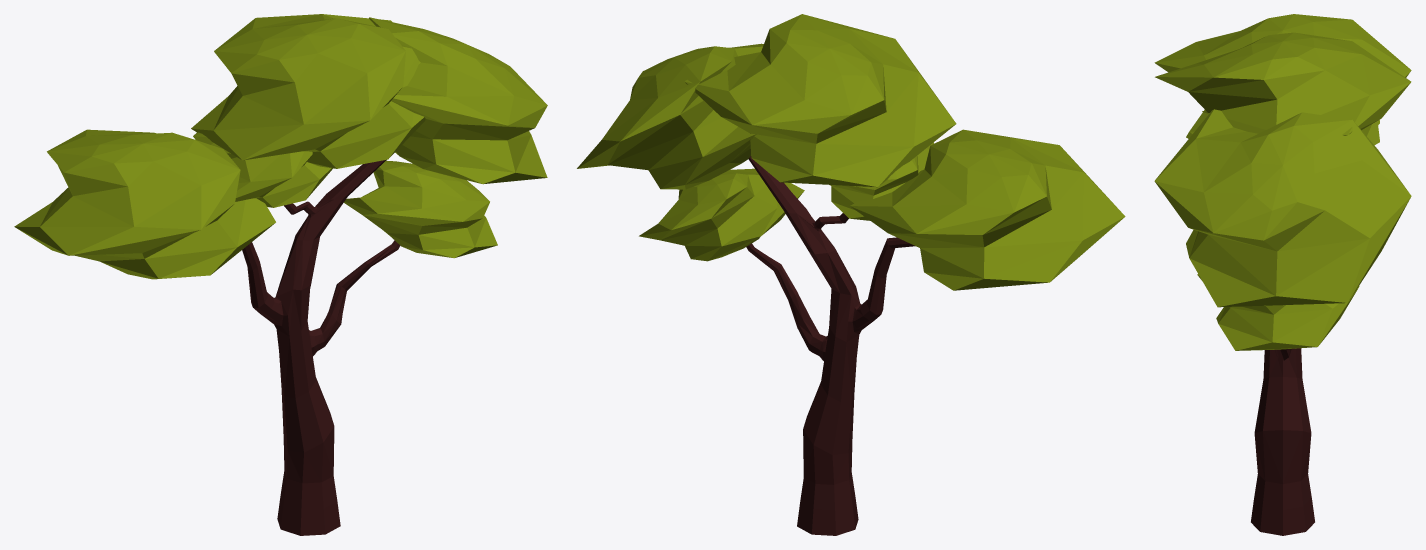
The model's file is 01_treeA_02.fbx.
3 views of the same model, side by side, from view 1: azimuth 30°, elevation 25°; view 2: azimuth 150°, elevation 25°; view 3: azimuth 270°, elevation 25° (orthographic). The views are drawn at different scales.
Visible parts, largest first — view 1: _treeCopaB_06, _treeTroncoA_02; view 2: _treeCopaB_06, _treeTroncoA_02; view 3: _treeCopaB_06, _treeTroncoA_02.
Part boxes in pixels (x1,y1,x2,y2): _treeCopaB_06: (14,14,547,279); _treeTroncoA_02: (242,159,400,535); _treeCopaB_06: (577,14,1125,290); _treeTroncoA_02: (746,156,915,535); _treeCopaB_06: (1154,14,1411,350); _treeTroncoA_02: (1251,348,1314,535).
Bounding box in the file's own units: 4.92 × 4.64 × 2.23.
